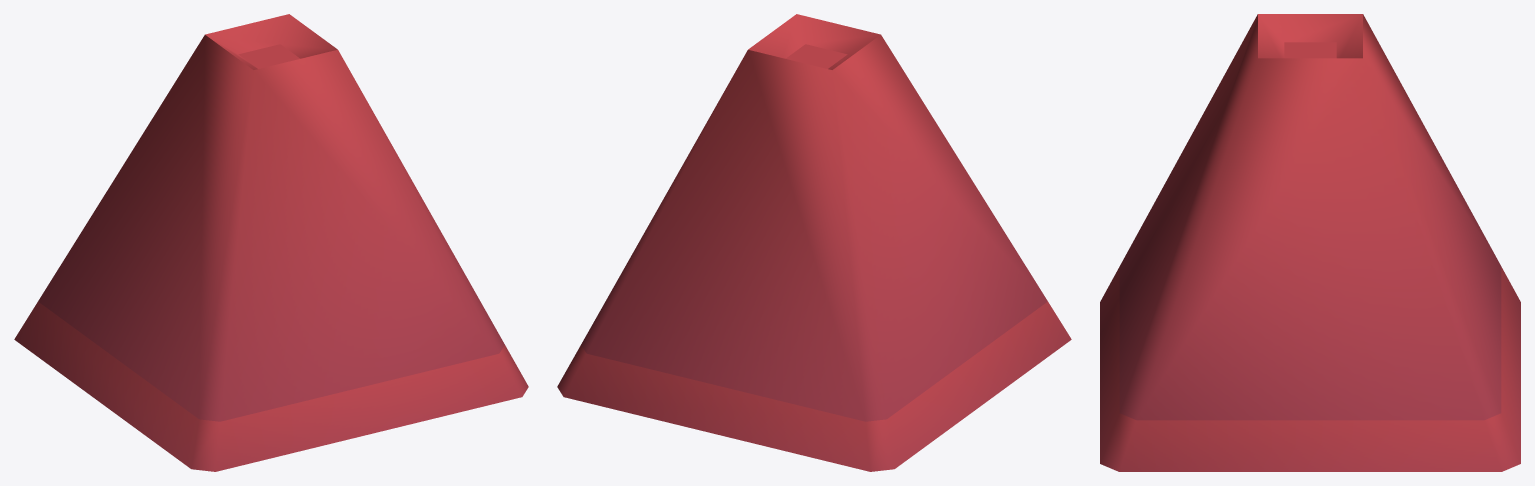
The model's file is roof-high-point.glb.
3 renders of one model, left to right at view 1: azimuth 30°, elevation 25°; view 2: azimuth 150°, elevation 25°; view 3: azimuth 270°, elevation 25°, orthographic. The views are drawn at different scales.
Visible parts, largest first — view 1: roof-high-point; view 2: roof-high-point; view 3: roof-high-point.
Part boxes in pixels (x1,y1,x2,y2): roof-high-point: [14, 14, 528, 471]; roof-high-point: [557, 14, 1071, 471]; roof-high-point: [1100, 14, 1520, 471].
Bounding box in the file's own units: 1.1 × 1 × 1.1.
